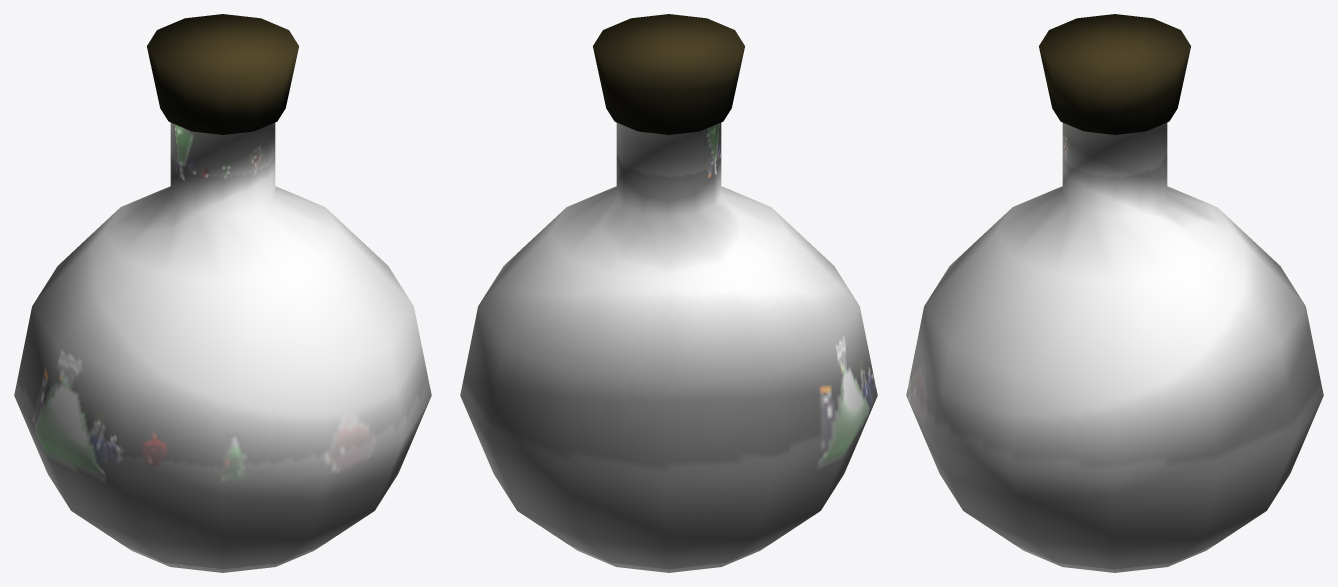
Rendered from Potion5.fbx.
3 renders of one model, left to right at view 1: azimuth 30°, elevation 25°; view 2: azimuth 150°, elevation 25°; view 3: azimuth 270°, elevation 25°, orthographic.
Visible parts, largest first — view 1: Cylinder.001; view 2: Cylinder.001; view 3: Cylinder.001.
Boxes of the visible parts, x1,y1,x2,y2 form: Cylinder.001: [14, 14, 431, 572]; Cylinder.001: [460, 14, 877, 572]; Cylinder.001: [906, 14, 1323, 572].
Size of the model in its own units: 48.77 by 62.34 by 48.77.
